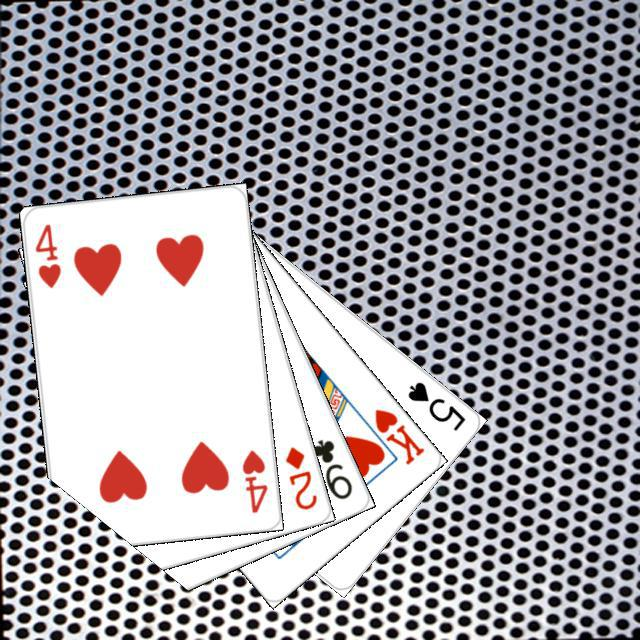2d: (280, 441, 319, 512)
4h: (30, 219, 63, 290), (237, 445, 269, 515)
5s: (402, 376, 467, 433)
9c: (307, 434, 354, 501)
Kh: (354, 404, 426, 467)
